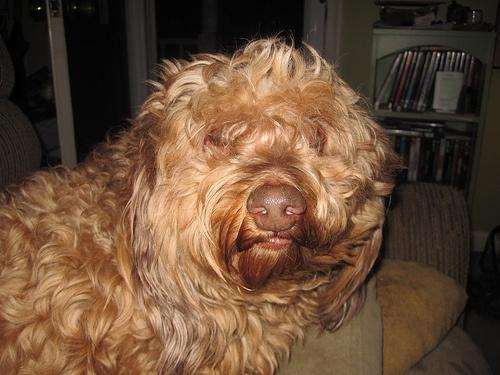dog: (0, 39, 398, 374)
